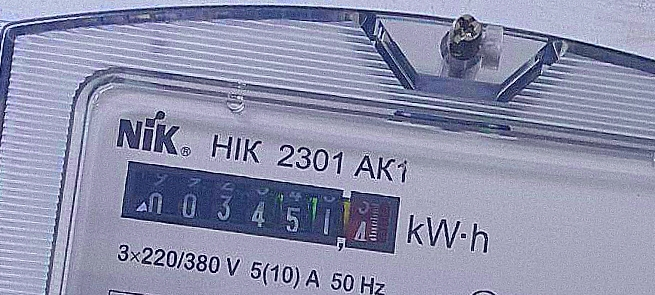0: (143, 187, 165, 216), (178, 190, 199, 220)
1: (317, 204, 336, 237)
3: (213, 190, 234, 223)
4: (246, 197, 269, 231), (348, 216, 371, 246)
5: (282, 202, 302, 235)
screen: (112, 154, 407, 262)
